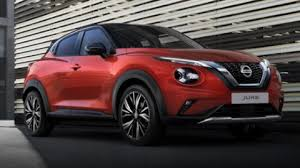Nissan: (26, 30, 281, 131)
